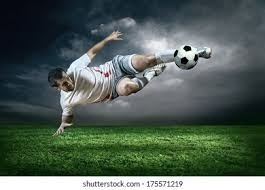football ball: (173, 45, 203, 72)
